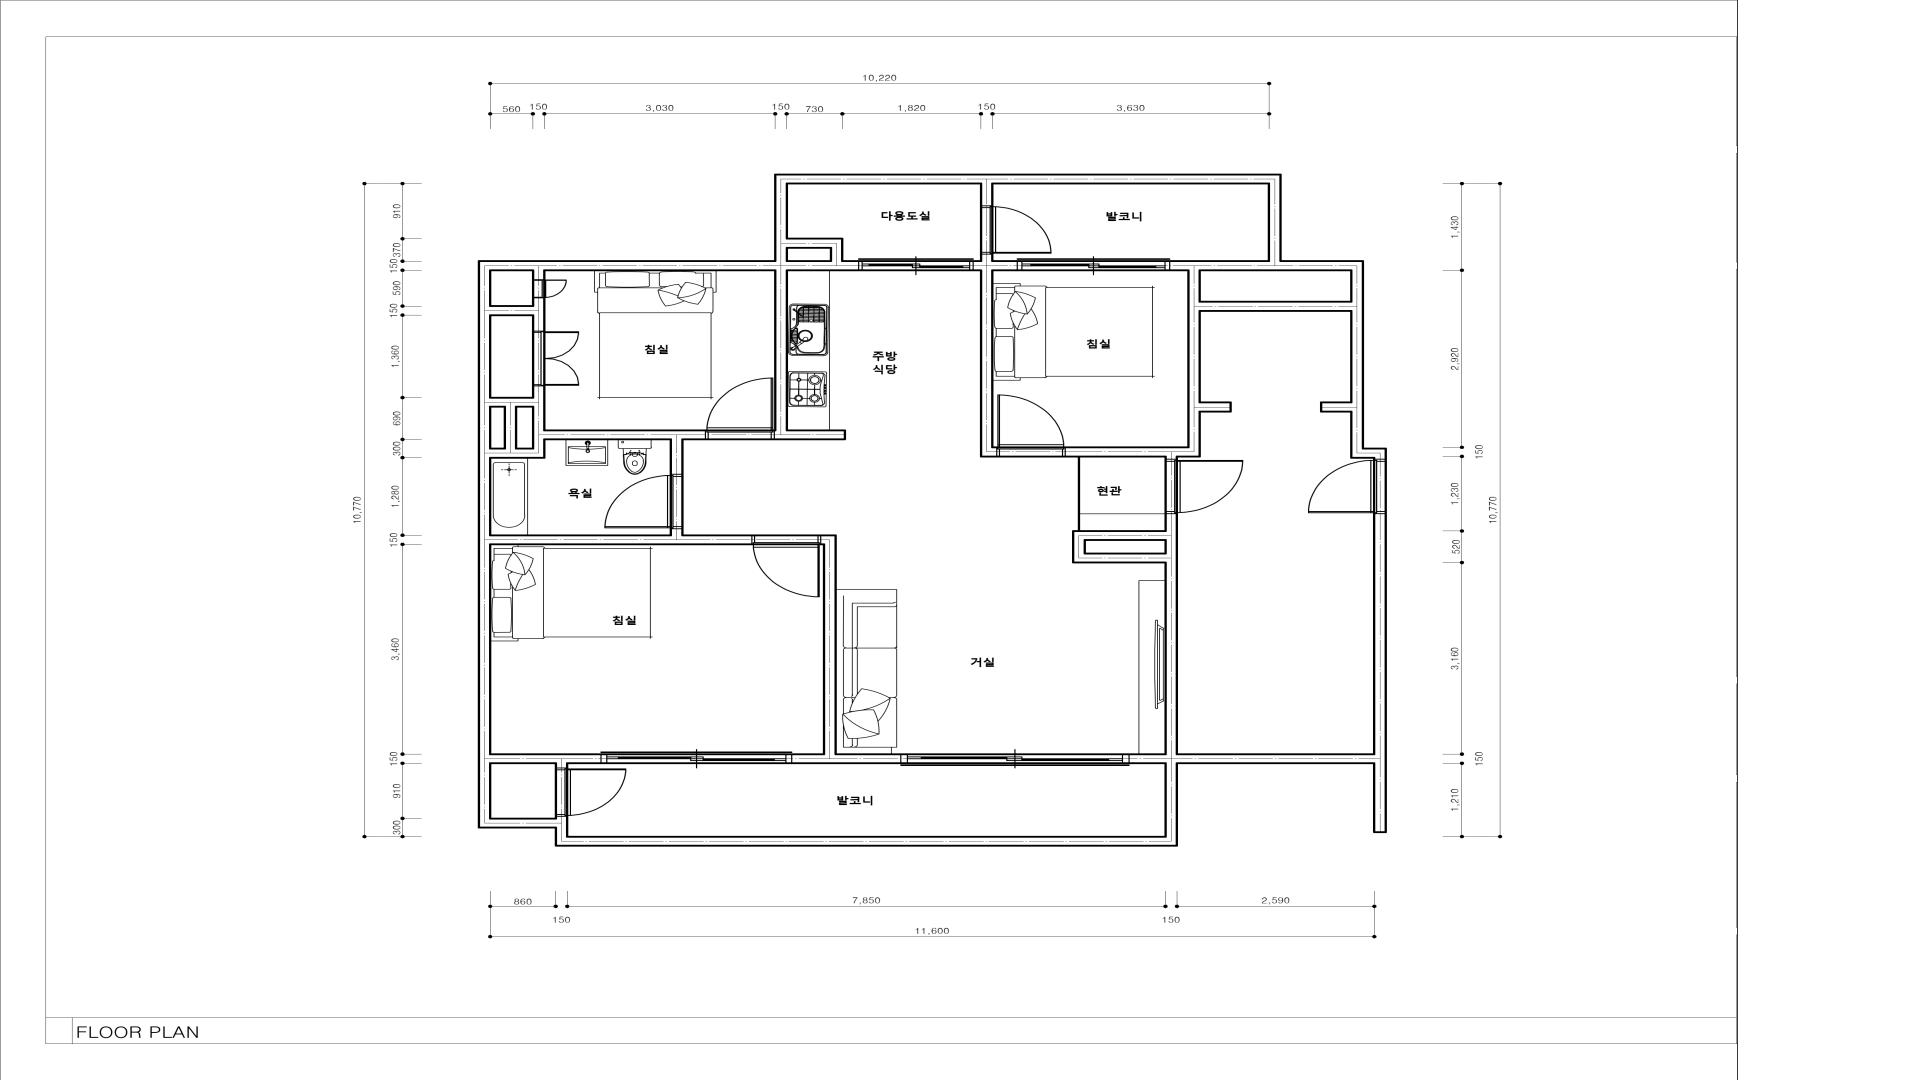door: (752, 534, 820, 598), (997, 394, 1065, 458), (1164, 459, 1244, 513), (603, 475, 684, 528), (1307, 460, 1387, 513), (706, 377, 773, 440), (555, 768, 627, 816), (980, 206, 1052, 253), (532, 331, 579, 386), (532, 280, 567, 298)
wall: (478, 260, 491, 817), (568, 836, 1178, 847), (774, 174, 1282, 184), (491, 260, 788, 272), (1164, 513, 1178, 753), (1373, 513, 1387, 753), (823, 534, 837, 753), (491, 534, 752, 545), (1129, 753, 1387, 764), (980, 253, 994, 446), (1350, 260, 1364, 448), (1187, 271, 1201, 457), (773, 272, 788, 440), (1170, 260, 1350, 271), (546, 429, 706, 440), (1201, 301, 1350, 312), (1064, 446, 1187, 457), (491, 753, 601, 764), (792, 753, 901, 764), (1268, 184, 1282, 260), (774, 184, 788, 260), (532, 385, 546, 459), (1164, 764, 1178, 836), (478, 817, 555, 829), (1086, 530, 1164, 541), (788, 260, 858, 272), (1086, 553, 1164, 563), (788, 429, 846, 440), (504, 408, 517, 448), (670, 440, 684, 475), (1072, 530, 1086, 563), (532, 298, 546, 331), (788, 238, 830, 249), (491, 448, 532, 459), (491, 397, 532, 408), (491, 305, 532, 316), (555, 816, 568, 847), (1201, 401, 1232, 413), (1320, 401, 1350, 413), (980, 185, 994, 207), (830, 238, 843, 260), (994, 260, 1017, 271), (1350, 448, 1373, 459), (980, 446, 997, 458), (1373, 448, 1387, 460), (532, 271, 546, 280), (669, 528, 684, 534), (974, 260, 980, 271), (555, 764, 568, 769), (1164, 457, 1178, 460), (820, 534, 823, 545)
window: (900, 753, 1130, 766), (600, 751, 792, 764), (1017, 258, 1170, 271), (858, 258, 974, 271)
